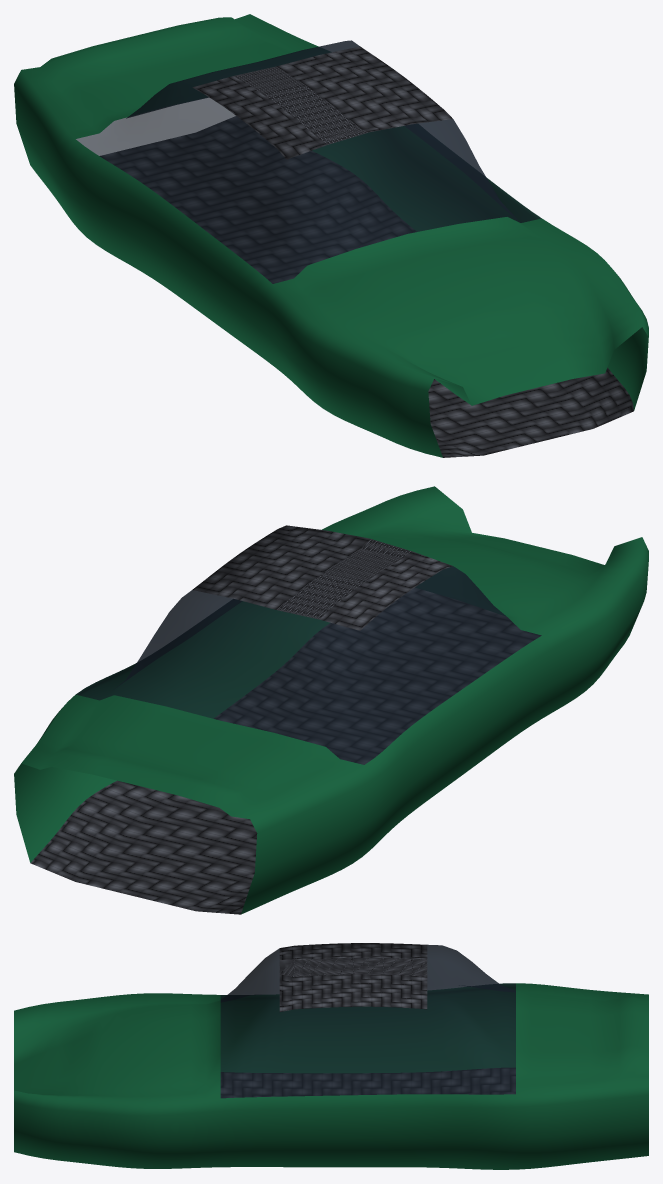
File: bmw_m3.obj
The picture shows the model from 3 angles, top to bottom: view 1: azimuth 30°, elevation 25°; view 2: azimuth 150°, elevation 25°; view 3: azimuth 270°, elevation 25°; orthographic projection. The views are drawn at different scales.
Parts seen in each view (by area): view 1: BodyPaintShell, CarbonAeroAndRoof, GreenhouseWindows; view 2: BodyPaintShell, CarbonAeroAndRoof, GreenhouseWindows; view 3: BodyPaintShell, GreenhouseWindows, CarbonAeroAndRoof.
Boxes of the visible parts, x1,y1,x2,y2 form: BodyPaintShell: (14, 14, 648, 457); CarbonAeroAndRoof: (100, 46, 633, 457); GreenhouseWindows: (76, 40, 541, 283); BodyPaintShell: (14, 486, 648, 914); CarbonAeroAndRoof: (30, 525, 541, 914); GreenhouseWindows: (76, 566, 541, 764); BodyPaintShell: (14, 983, 648, 1169); GreenhouseWindows: (220, 944, 515, 1098); CarbonAeroAndRoof: (221, 943, 515, 1097).
Bounding box in the file's own units: 2.11 × 1.27 × 4.79.
Materials: 3 (1 with a texture image).
